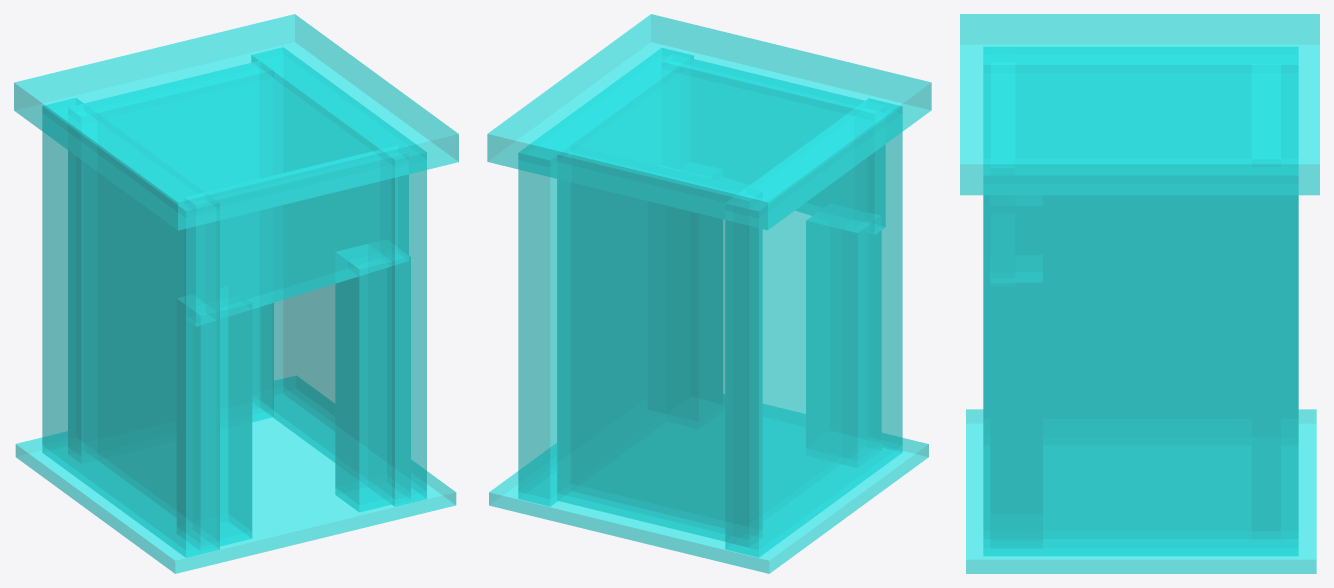
The model's file is SM_Bld_Shack_11_Collision.fbx.
3 renders of one model, left to right at view 1: azimuth 30°, elevation 25°; view 2: azimuth 150°, elevation 25°; view 3: azimuth 270°, elevation 25°, orthographic. The views are drawn at different scales.
Parts seen in each view (by area): view 1: SM_Bld_Shack_11_Collision; view 2: SM_Bld_Shack_11_Collision; view 3: SM_Bld_Shack_11_Collision.
Boxes of the visible parts, x1,y1,x2,y2 form: SM_Bld_Shack_11_Collision: (14, 14, 458, 573); SM_Bld_Shack_11_Collision: (487, 14, 931, 573); SM_Bld_Shack_11_Collision: (960, 14, 1319, 573).
Size of the model in its own units: 251 by 319 by 254.
